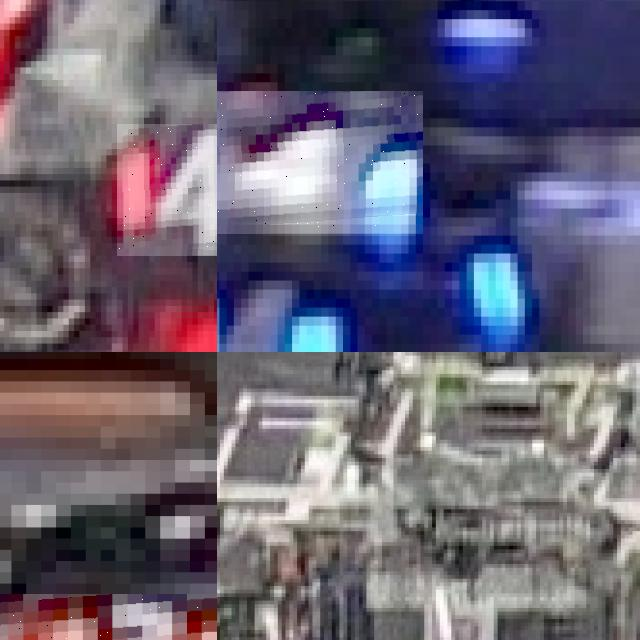B4: (217, 91, 423, 235), (217, 262, 350, 352)
R3: (0, 594, 217, 640)
R4: (117, 124, 217, 256)
